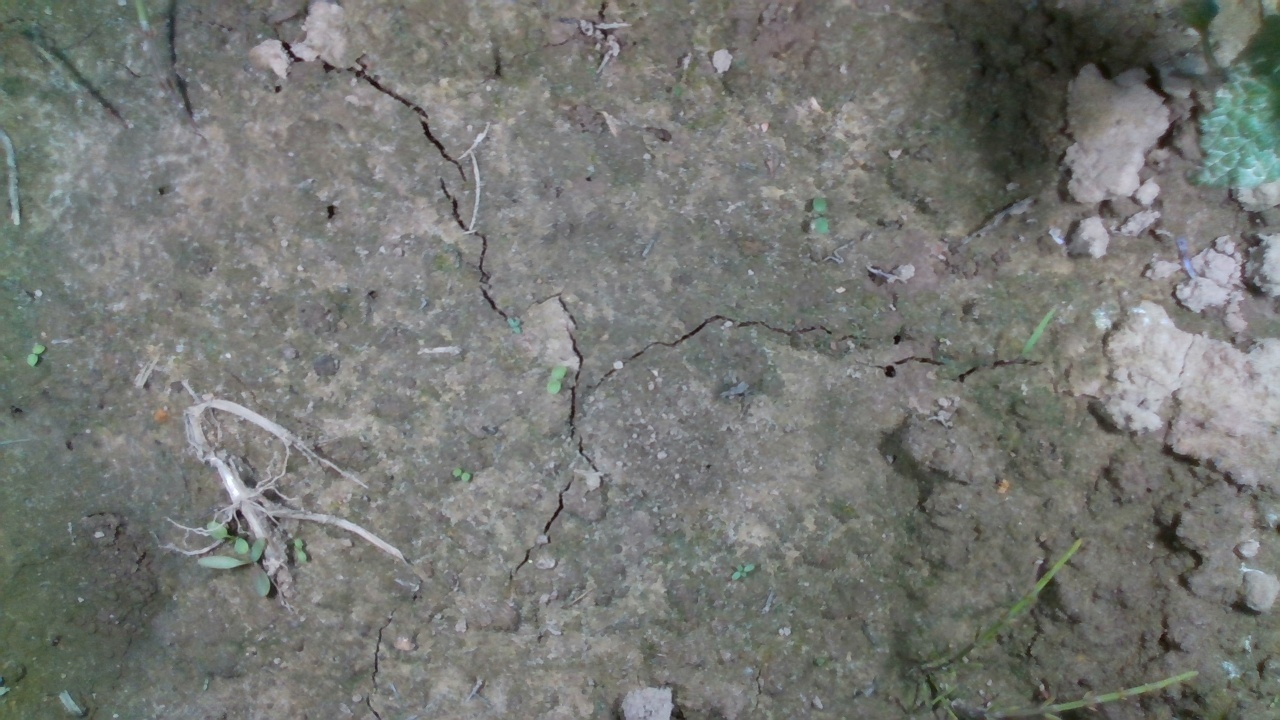weed: (811, 197, 831, 235), (546, 362, 567, 395), (733, 562, 757, 581), (26, 343, 44, 367), (293, 536, 308, 564), (449, 466, 470, 482)
